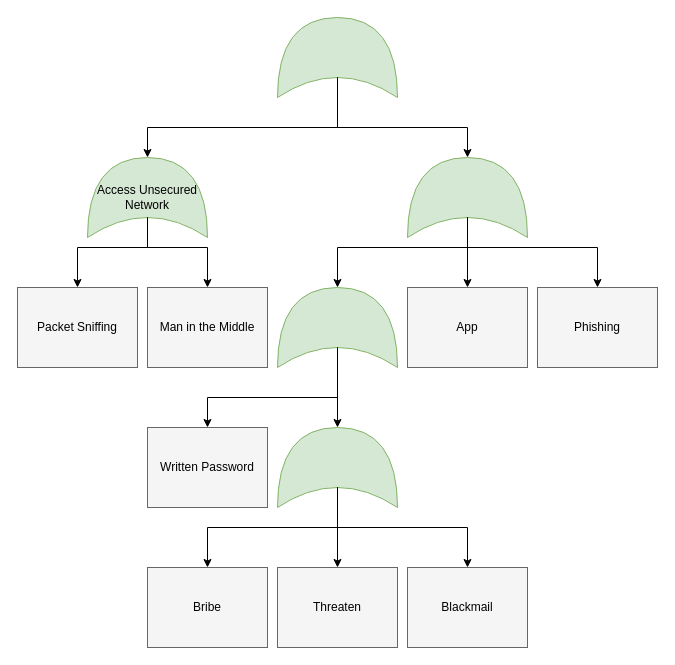
Image size: 675x665. Some labels were removed from this diagram. The shapes that lost their labels are listed below. From the top down, each one's box as (x1, y1, x2, y2) in pixels, then its label:
(276, 16, 398, 98): Full Access to User's WiFi
(406, 156, 528, 238): Access Secured Network
(276, 286, 398, 368): Learn Password
(276, 426, 398, 508): Get Password From User
